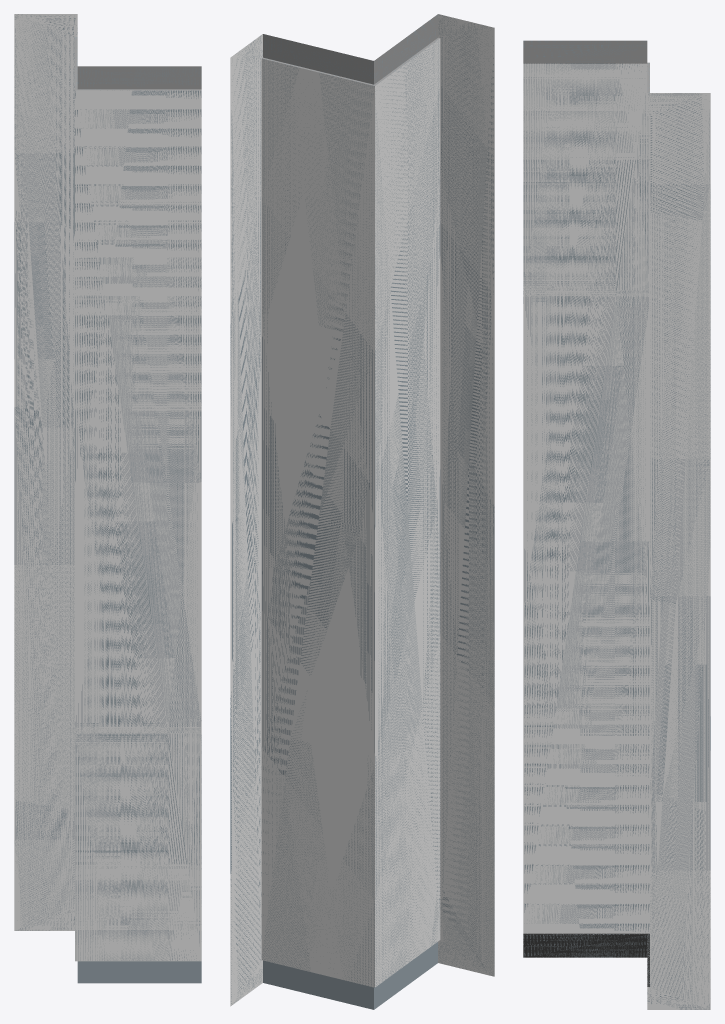
Rendered from Corner_os_plinth_050x050x025x4.dae.
3 views of the same model, side by side, from view 1: azimuth 90°, elevation 25°; view 2: azimuth 150°, elevation 25°; view 3: azimuth 270°, elevation 25° (orthographic). The views are drawn at different scales.
Parts seen in each view (by area): view 1: group_0 (×3); view 2: group_0 (×3); view 3: group_0 (×3).
Boxes of the visible parts, bbox=[...] form: group_0 (×3): bbox=[14, 14, 201, 983]; group_0 (×3): bbox=[230, 14, 494, 1009]; group_0 (×3): bbox=[523, 40, 710, 1009].
Size of the model in its own units: 29.13 by 29.13 by 157.
